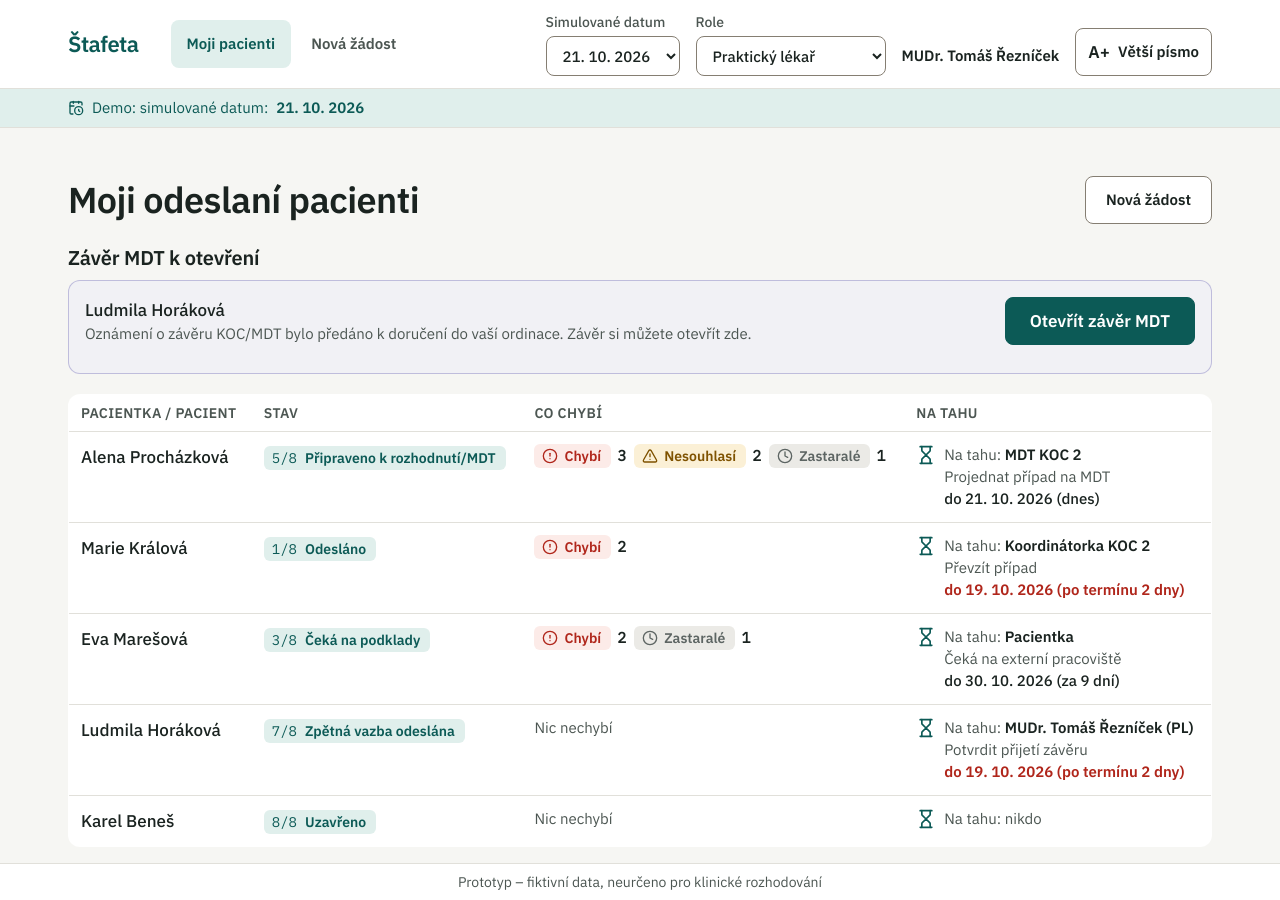
GP portal, demo step 6 › shows the conclusion even when the receipt fails, says so and records on retry
The width and height of the screenshot is (1280, 900).
Click the button with aria-label "Otevřít závěr MDT: Ludmila Horáková" at (1100, 321), box [1005,297,1195,345]
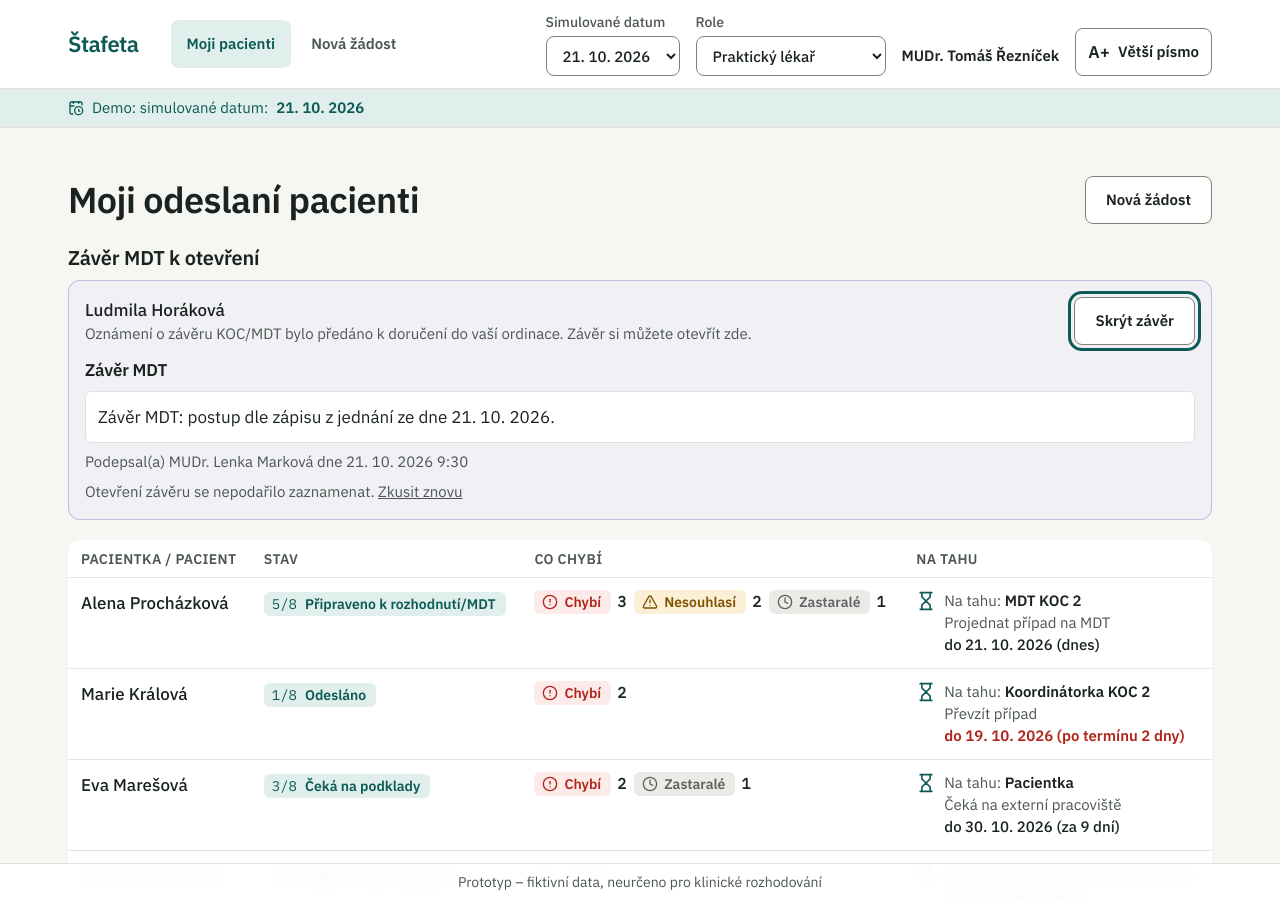
Result: the text "Závěr MDT: postup dle zápisu z jednání ze dne 21. 10. 2026." is shown at [85,391,1195,443]
Result: the text "Otevření závěru se nepodařilo zaznamenat. Zkusit znovu" is shown at [85,482,462,501]
Click the button "Zkusit znovu" at (420, 492), box [378,481,462,503]
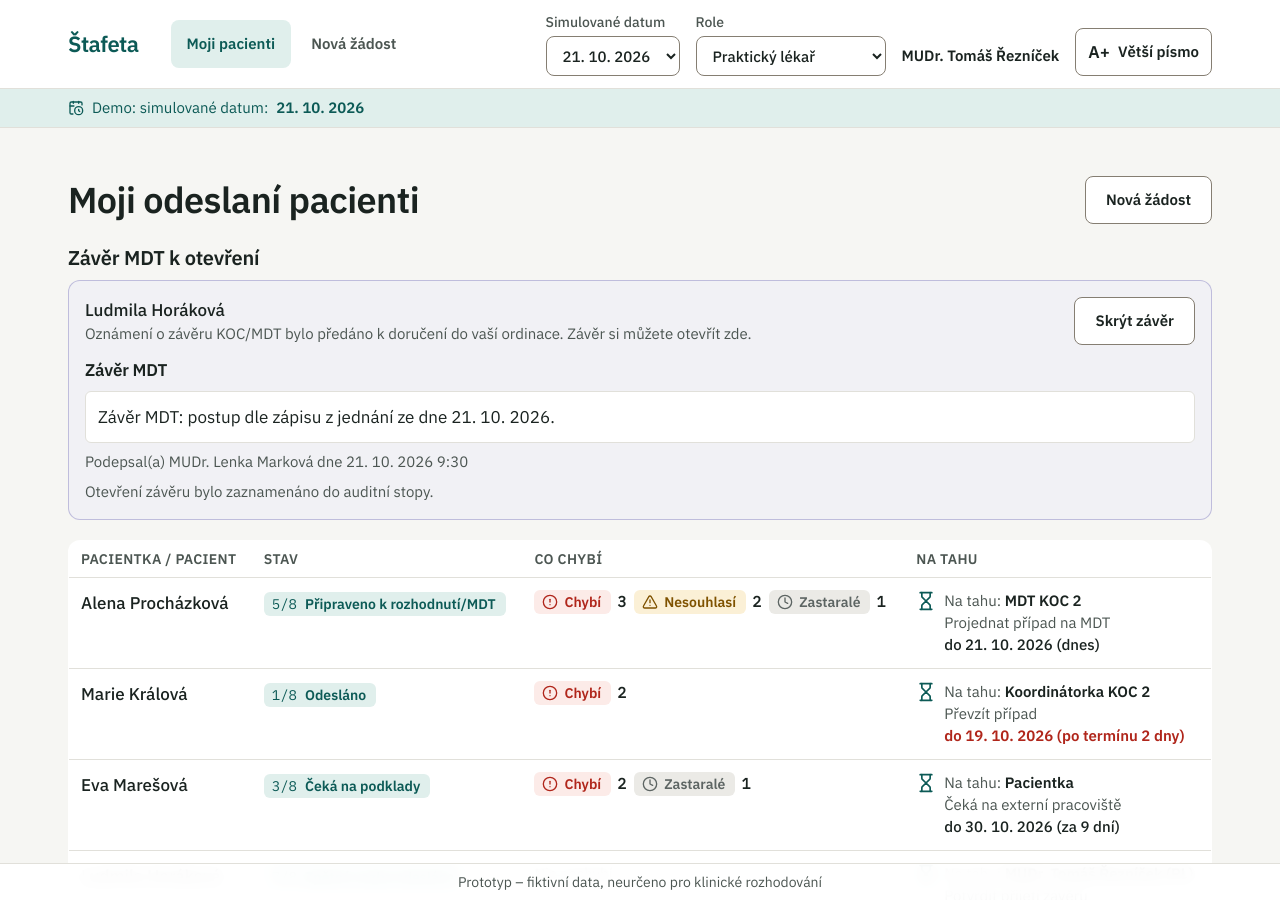
Result: the text "Otevření závěru bylo zaznamenáno do auditní stopy." is shown at [85,482,434,501]
